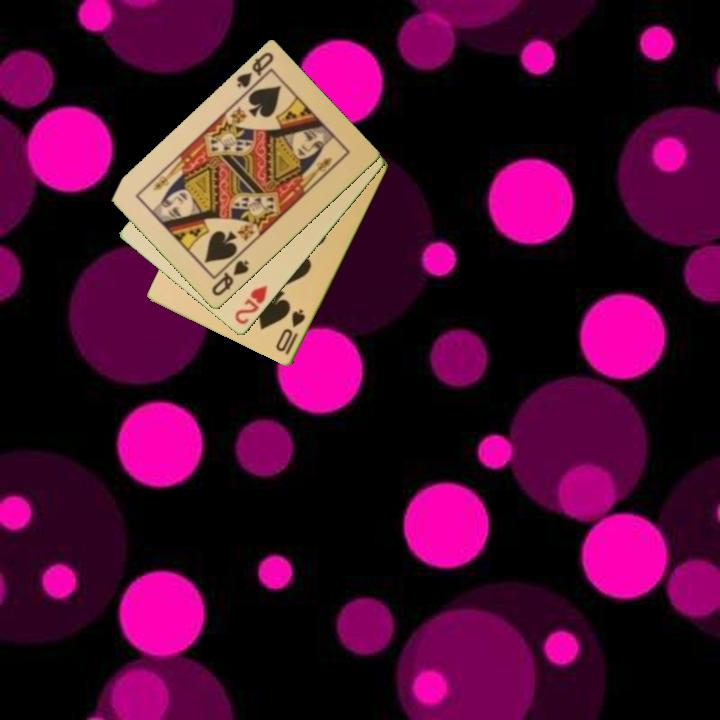10s: (272, 306, 308, 358)
2h: (231, 282, 271, 328)
Qs: (208, 257, 252, 299), (233, 49, 277, 91)
